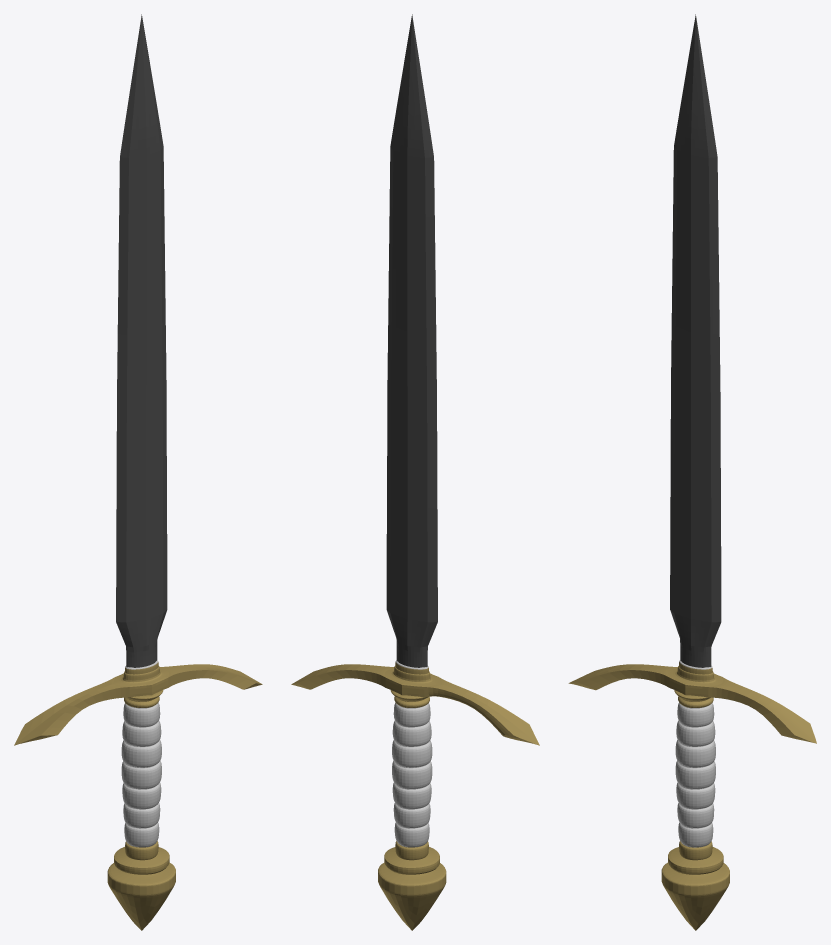
File: Verso_Dagger.fbx
The picture shows the model from 3 angles, left to right: view 1: azimuth 30°, elevation 25°; view 2: azimuth 150°, elevation 25°; view 3: azimuth 330°, elevation 25°; orthographic projection.
Visible parts, largest first — view 1: Cube; view 2: Cube; view 3: Cube.
Part boxes in pixels (x1,y1,x2,y2): Cube: (14,14,262,930); Cube: (291,14,539,930); Cube: (568,14,816,930).
Bounding box in the file's own units: 1107 × 3897 × 270.
